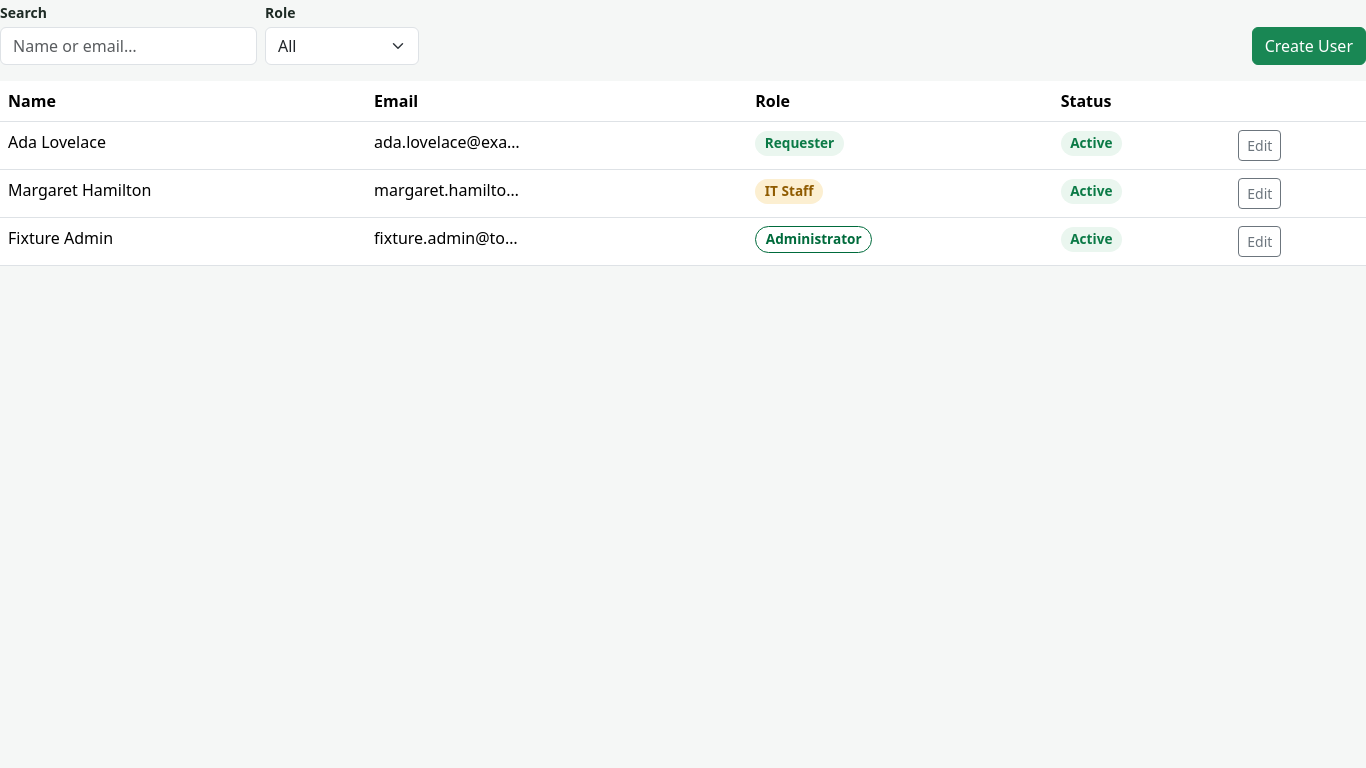
UserManagement › UI-20 disables Deactivate with an explanatory tooltip when editing your own account
SAMPLE_USERS[2] (index 2) is the current admin themselves.
Click the button "Edit" in the row of "Fixture Admin" at (1260, 242), box top-left (1238, 226), bottom-right (1281, 257)
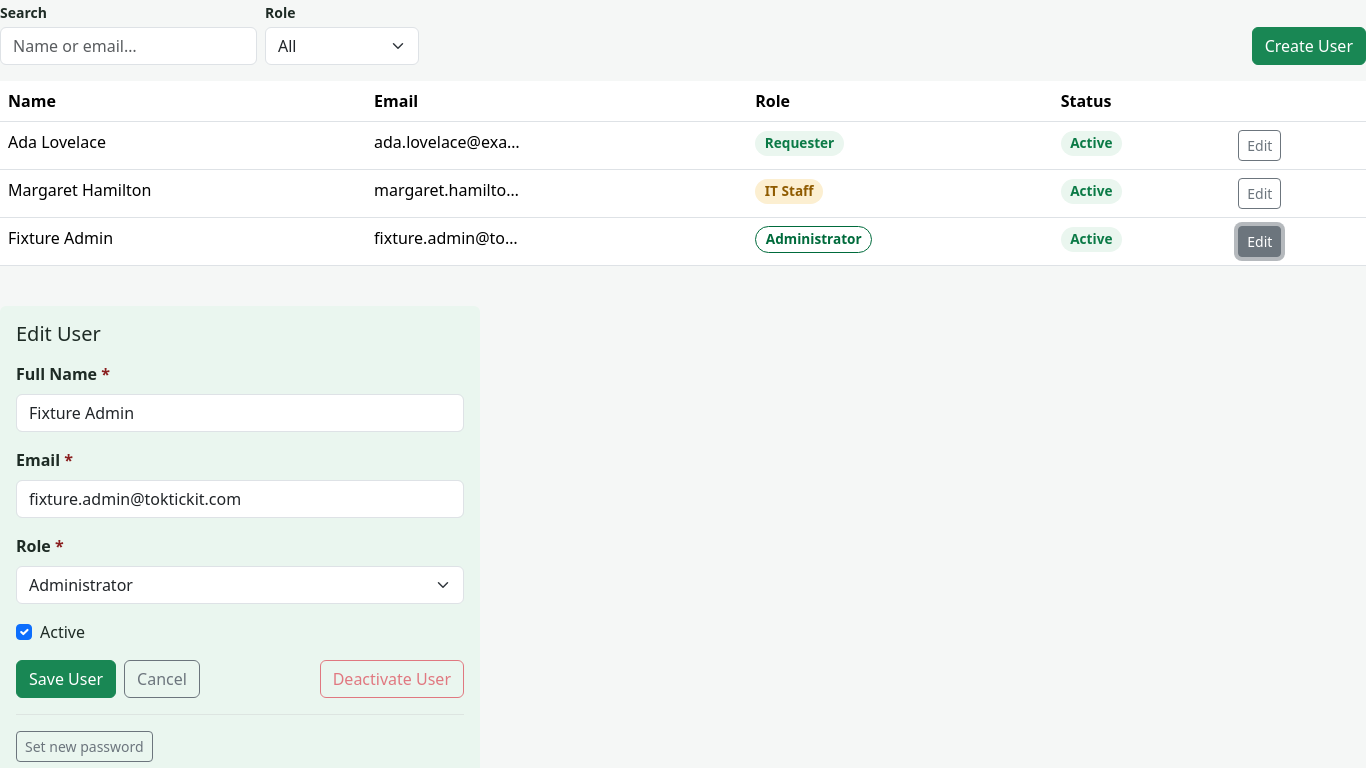
Expected: the button "Deactivate User" is disabled, top-left (320, 660), bottom-right (464, 698)
